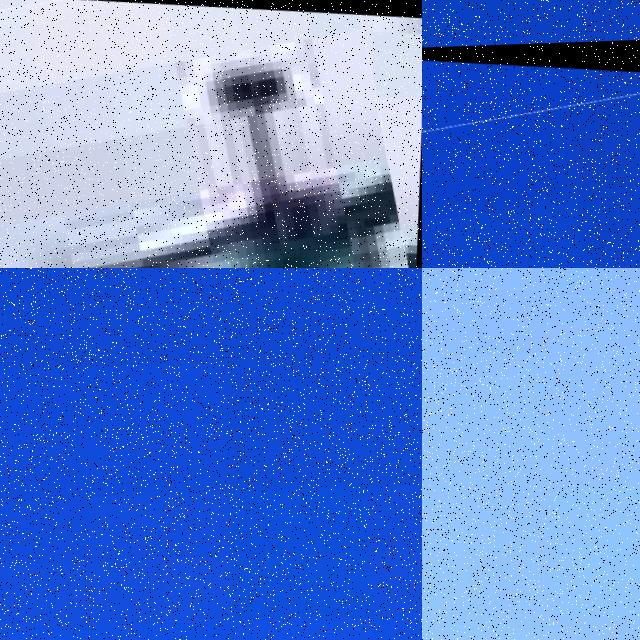drone: (0, 0, 422, 268), (422, 30, 640, 268)
